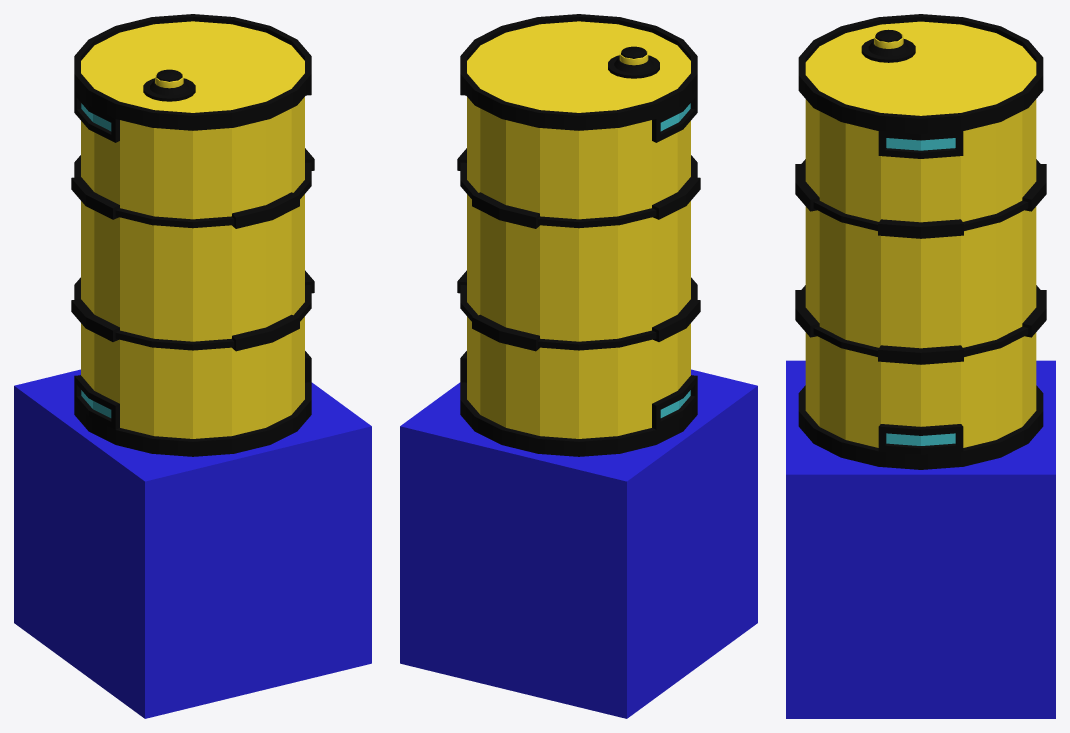
File: Barrel.fbx
3 views of the same model, side by side, from view 1: azimuth 30°, elevation 25°; view 2: azimuth 150°, elevation 25°; view 3: azimuth 270°, elevation 25° (orthographic). The views are drawn at different scales.
Visible parts, largest first — view 1: Box253, Barrel, BarrelDetail, LidDetail; view 2: Box253, Barrel, BarrelDetail, LidDetail; view 3: Barrel, Box253, BarrelDetail, LidDetail.
Part boxes in pixels (x1,y1,x2,y2): Box253: [14, 369, 371, 718]; Barrel: [81, 21, 304, 438]; BarrelDetail: [71, 14, 314, 456]; LidDetail: [143, 69, 195, 101]; Box253: [400, 369, 757, 718]; Barrel: [467, 21, 690, 438]; BarrelDetail: [457, 14, 700, 456]; LidDetail: [608, 46, 659, 78]; Barrel: [805, 21, 1036, 447]; Box253: [786, 360, 1055, 718]; BarrelDetail: [795, 14, 1046, 469]; LidDetail: [861, 29, 915, 62].
Bounding box in the file's own units: 39.5 × 98.42 × 39.5.
